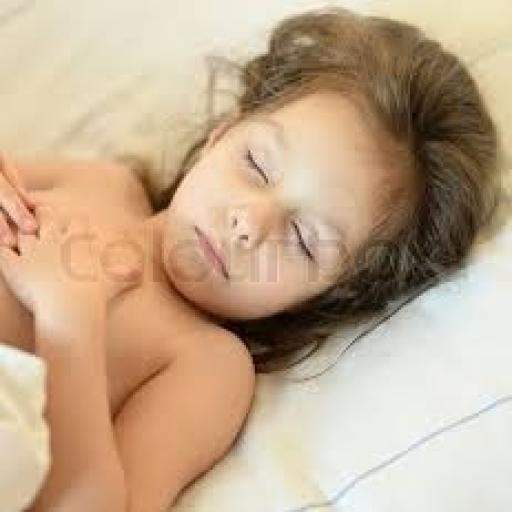sleeping: (0, 2, 503, 510)
